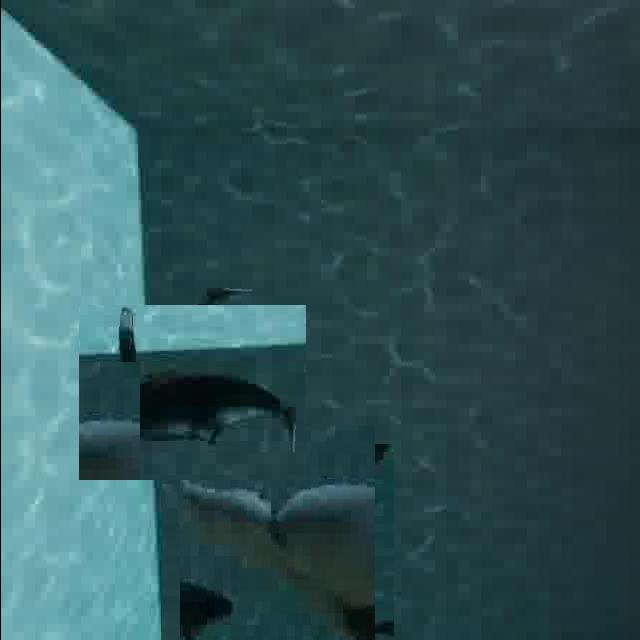Whale: (171, 436, 384, 640), (91, 291, 292, 493)
